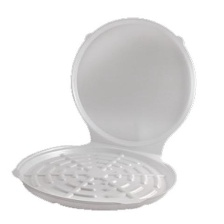foam_box: (7, 11, 202, 215)
